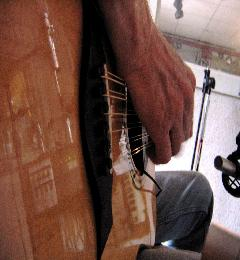guitar: (1, 1, 156, 260)
